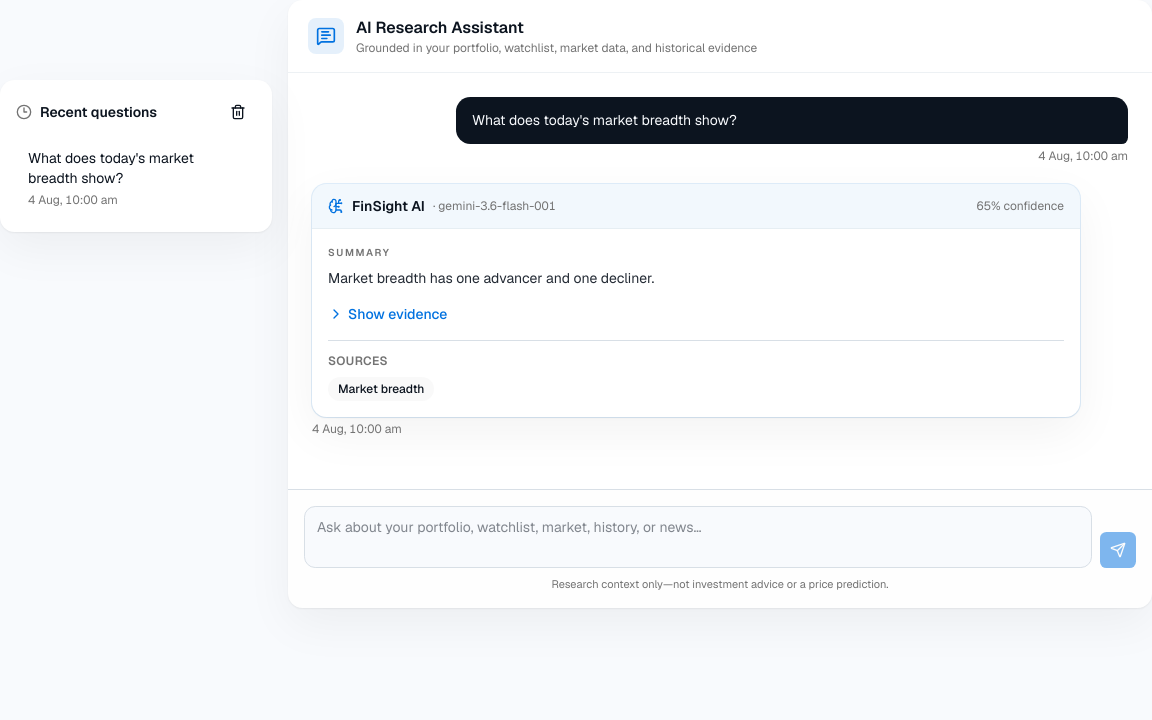
Scenario: ChatPage › loads private history and clears it after confirmation
This screenshot has width=1152, height=720.
Expected: the text "Market breadth has one advancer and one decliner." is shown, [328,269,654,287]
What coordinates should you click on to do the following:
click the button named "Delete chat history"
I would click on:
 (238, 112)
Its box is [220,96,256,128].
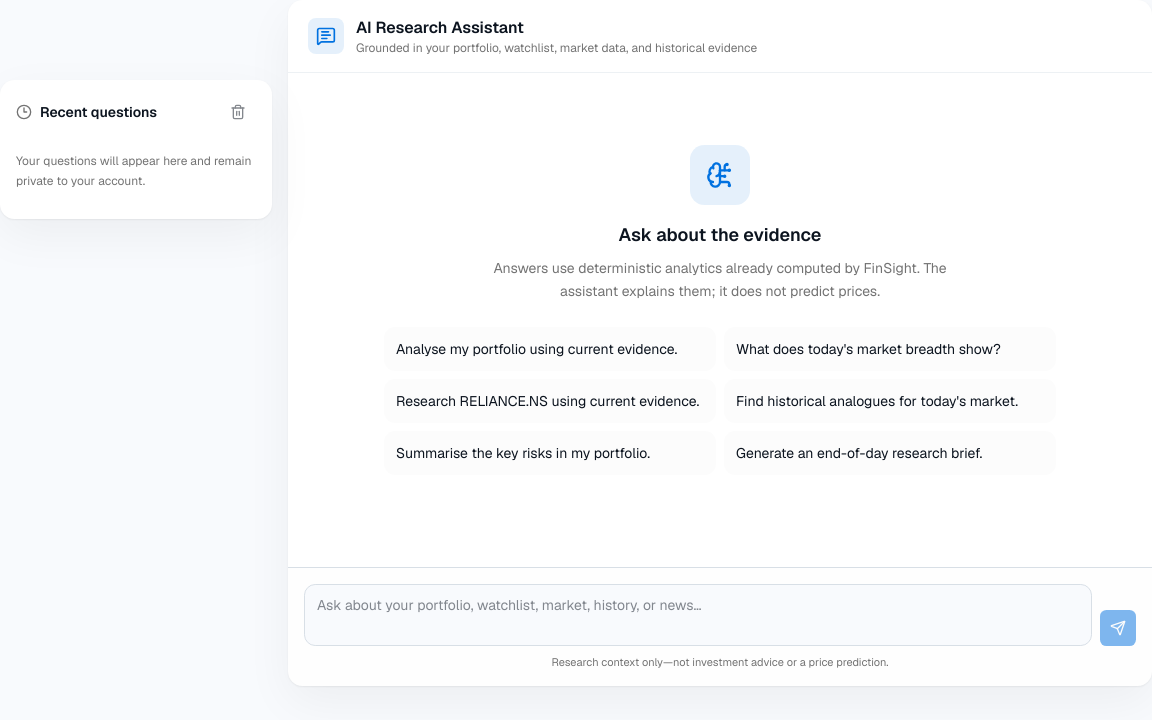
Result: the heading "Ask about the evidence" is shown at [618,221,821,249]
